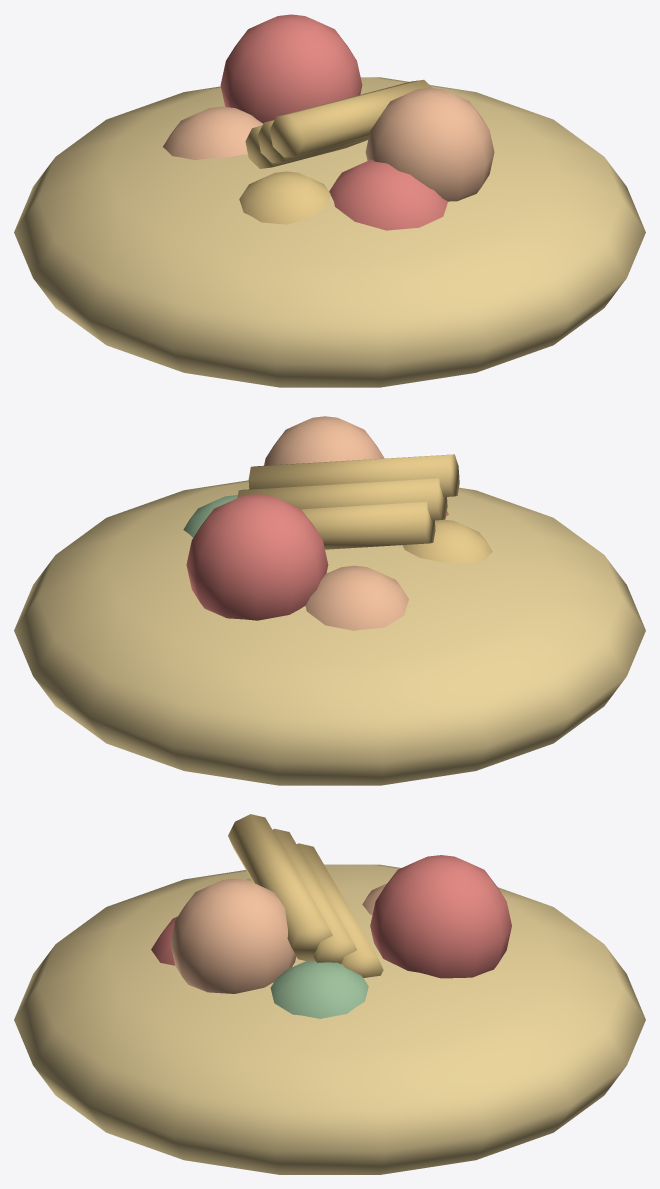
File: Gear08.fbx
The picture shows the model from 3 angles, top to bottom: view 1: azimuth 30°, elevation 25°; view 2: azimuth 150°, elevation 25°; view 3: azimuth 270°, elevation 25°; orthographic projection.
Parts seen in each view (by area): view 1: Gear08_V10_Brass, Gear08_V10_Crimson, Gear08_V10_Gold, Gear08_V10_Apricot, Gear08_V1_Crimson, Gear08_V1_Apricot; view 2: Gear08_V10_Brass, Gear08_V10_Gold, Gear08_V10_Crimson, Gear08_V1_Apricot, Gear08_V10_Apricot, Gear08_V10_Leaf; view 3: Gear08_V10_Brass, Gear08_V10_Crimson, Gear08_V10_Apricot, Gear08_V10_Gold, Gear08_V10_Leaf, Gear08_V1_Crimson.
Boxes of the visible parts, x1=… form: Gear08_V10_Brass: x1=14, y1=77, x2=645, y2=387; Gear08_V10_Crimson: x1=220, y1=14, x2=362, y2=123; Gear08_V10_Gold: x1=239, y1=79, x2=432, y2=224; Gear08_V10_Apricot: x1=365, y1=88, x2=494, y2=201; Gear08_V1_Crimson: x1=329, y1=159, x2=447, y2=230; Gear08_V1_Apricot: x1=163, y1=106, x2=262, y2=159; Gear08_V10_Brass: x1=14, y1=480, x2=645, y2=785; Gear08_V10_Gold: x1=237, y1=454, x2=492, y2=564; Gear08_V10_Crimson: x1=186, y1=494, x2=328, y2=620; Gear08_V1_Apricot: x1=305, y1=565, x2=408, y2=630; Gear08_V10_Apricot: x1=264, y1=416, x2=384, y2=465; Gear08_V10_Leaf: x1=183, y1=495, x2=237, y2=537; Gear08_V10_Brass: x1=14, y1=864, x2=645, y2=1174; Gear08_V10_Crimson: x1=370, y1=855, x2=511, y2=978; Gear08_V10_Apricot: x1=170, y1=878, x2=296, y2=993; Gear08_V10_Gold: x1=228, y1=814, x2=383, y2=977; Gear08_V10_Leaf: x1=270, y1=960, x2=368, y2=1018; Gear08_V1_Crimson: x1=151, y1=916, x2=177, y2=965.
Size of the model in its own units: 38.6 by 18.4 by 39.2.
